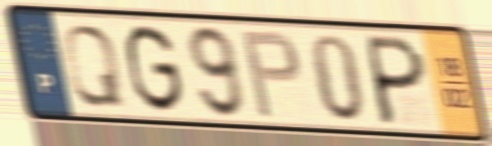0: (307, 31, 369, 124)
9: (186, 22, 246, 121)
G: (123, 21, 187, 116)
P: (238, 28, 304, 121), (365, 32, 428, 129)
Q: (59, 21, 128, 111)
